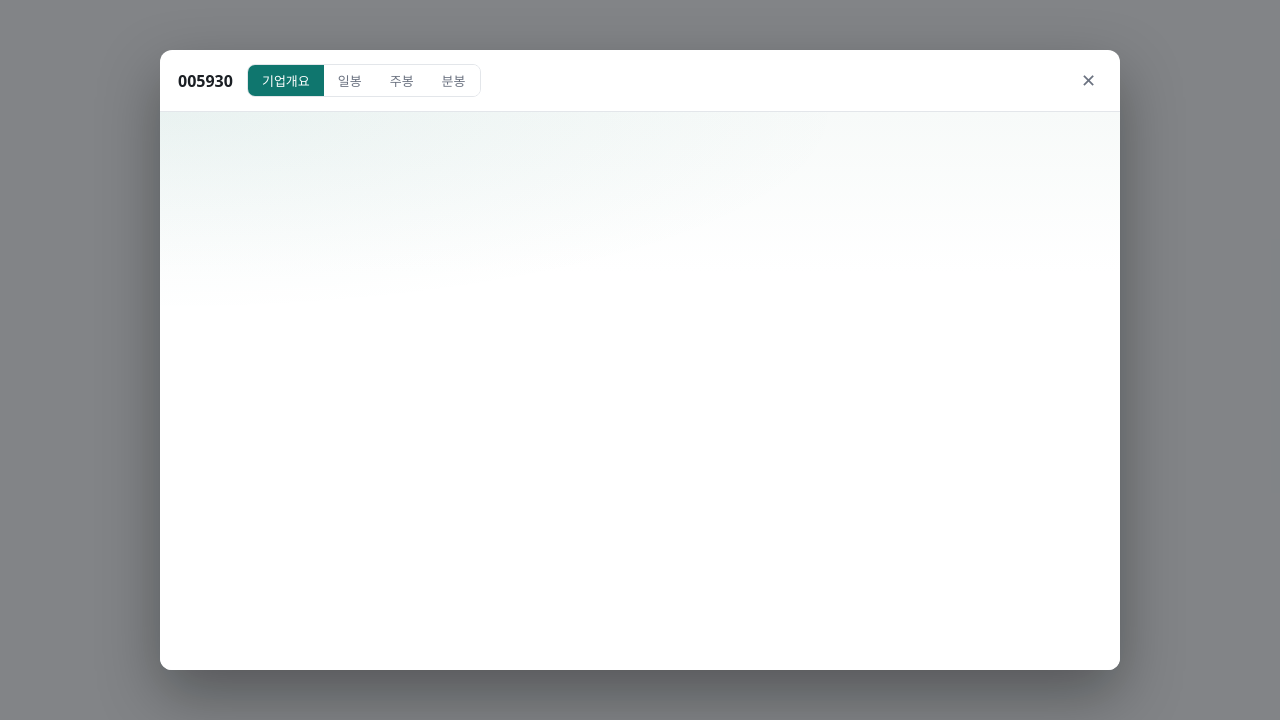
Test case: ChartModal › 연속 실패 시 오류 안내를 보여준다
Click the tab "일봉" at (350, 80), box [324,65,376,96]
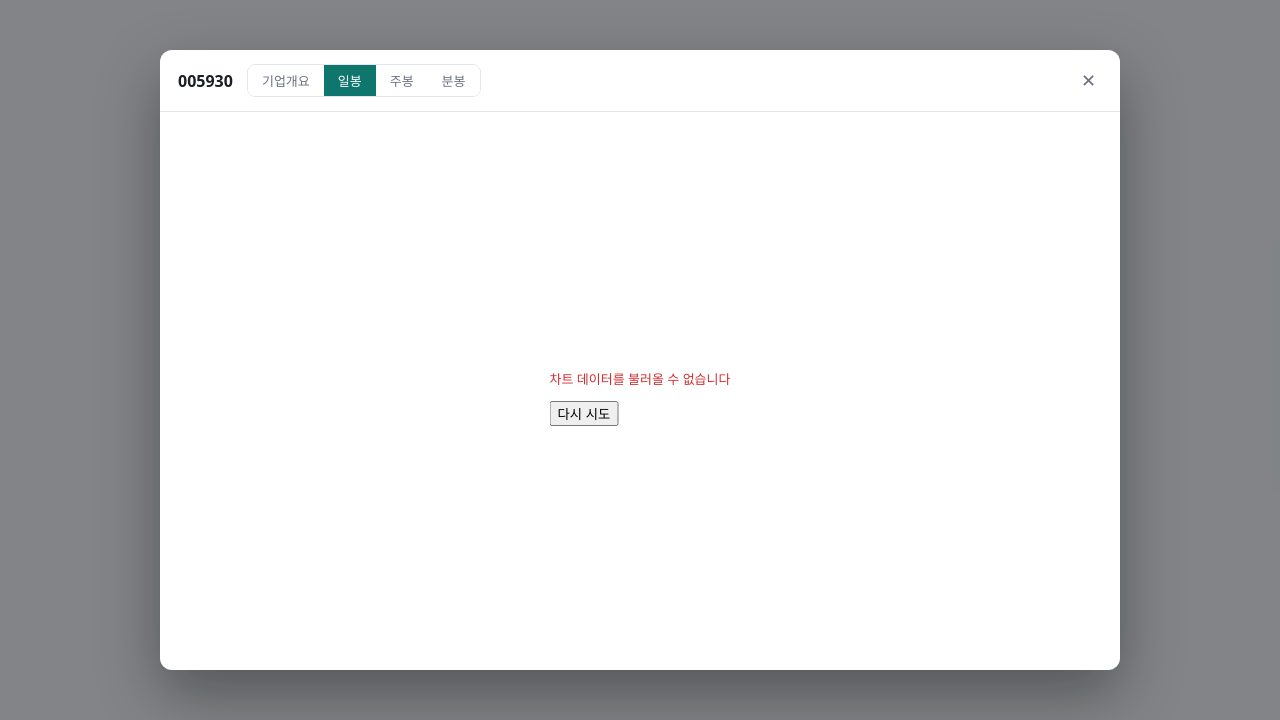
Now the text "차트 데이터를 불러올 수 없습니다" is shown, box [550,369,730,388]
